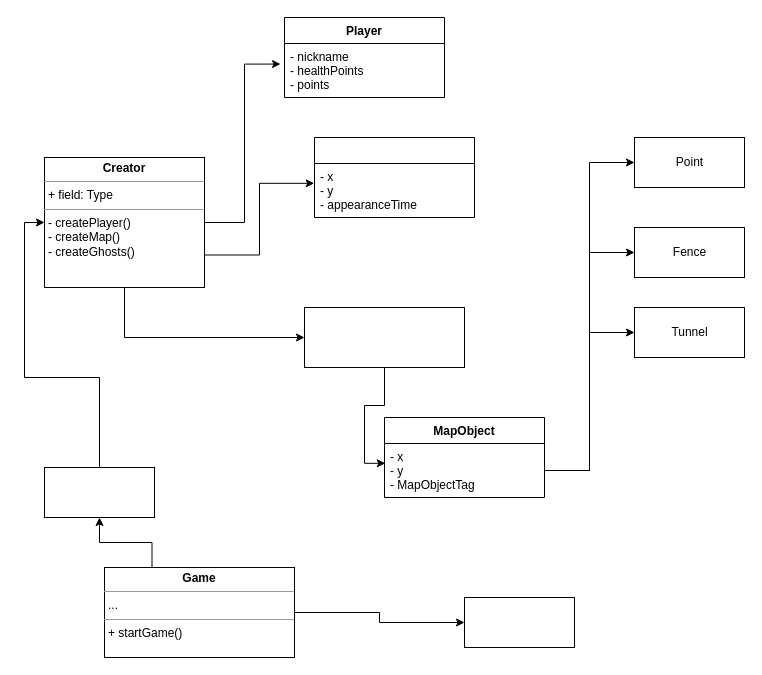
This 762x675 diagram has some shape labels left out. The shapes that lost their labels are listed below. From the top down, each one's box as (x1, y1, x2, y2) in pixels, then its label:
(314, 136, 474, 218): Ghost
(304, 306, 464, 368): Map - map
(44, 466, 154, 518): «interface» CreateObjects
(464, 596, 574, 648): «interface» PlayGame
